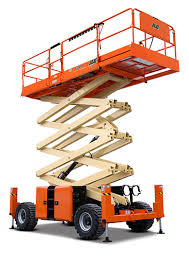Scissor Lift: (9, 5, 180, 243)
